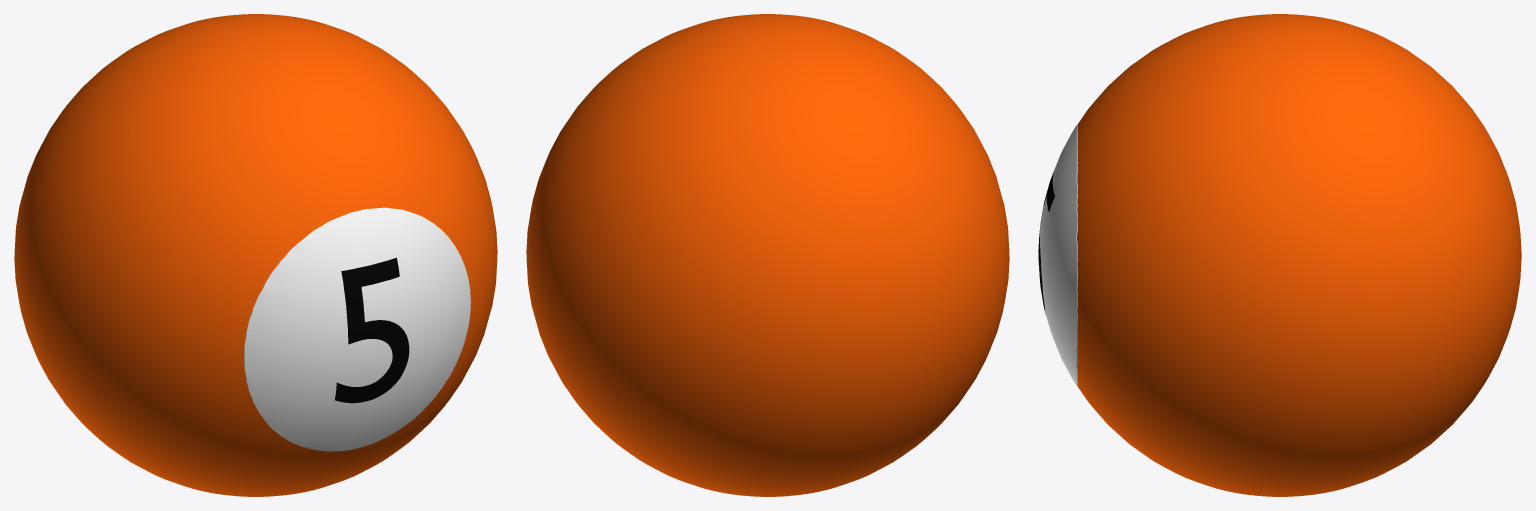
Rendered from Ball5.fbx.
The picture shows the model from 3 angles, left to right: view 1: azimuth 30°, elevation 25°; view 2: azimuth 150°, elevation 25°; view 3: azimuth 270°, elevation 25°; orthographic projection.
Visible parts, largest first — view 1: Ball5; view 2: Ball5; view 3: Ball5.
Part boxes in pixels (<box>): Ball5: <box>14,14,497,496</box>; Ball5: <box>526,14,1009,496</box>; Ball5: <box>1038,14,1521,496</box>.
Bounding box in the file's own units: 5.7 × 5.7 × 5.7.
